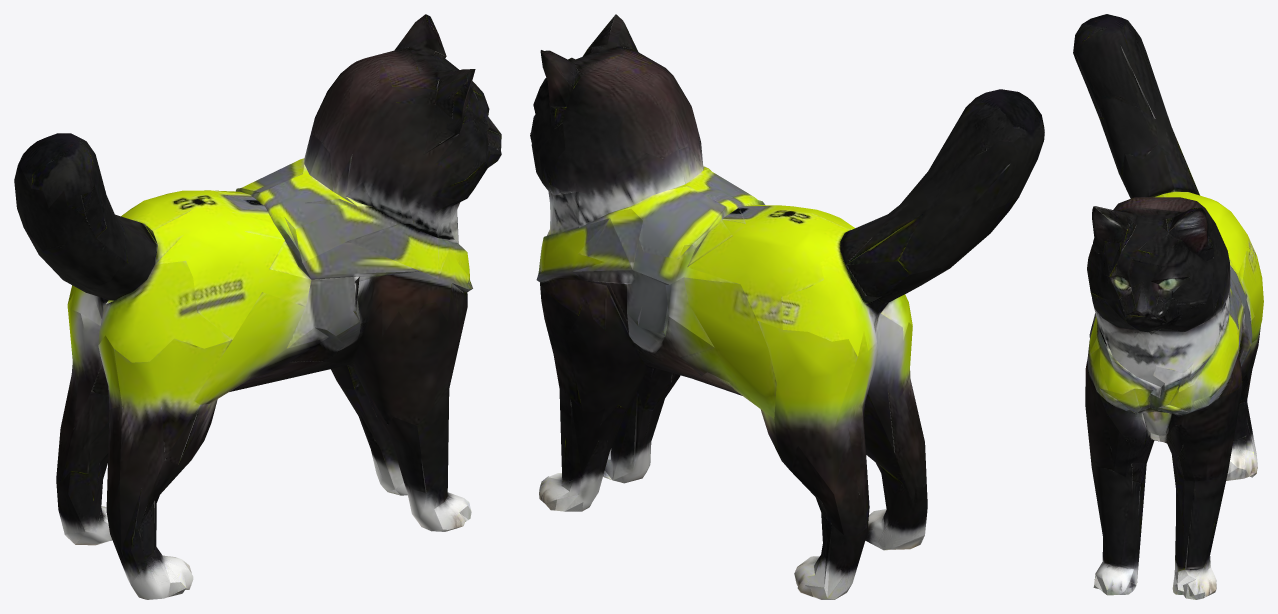
File: FELIXHUD-lo.glb
3 views of the same model, side by side, from view 1: azimuth 30°, elevation 25°; view 2: azimuth 150°, elevation 25°; view 3: azimuth 270°, elevation 25° (orthographic). The views are drawn at different scales.
Parts seen in each view (by area): view 1: output_unwrapped; view 2: output_unwrapped; view 3: output_unwrapped.
Part boxes in pixels (x1,y1,x2,y2): output_unwrapped: [14, 14, 501, 599]; output_unwrapped: [530, 14, 1044, 599]; output_unwrapped: [1073, 14, 1263, 599].
Bounding box in the file's own units: 1.08 × 1 × 0.4191.
1 material, 1 textured.
